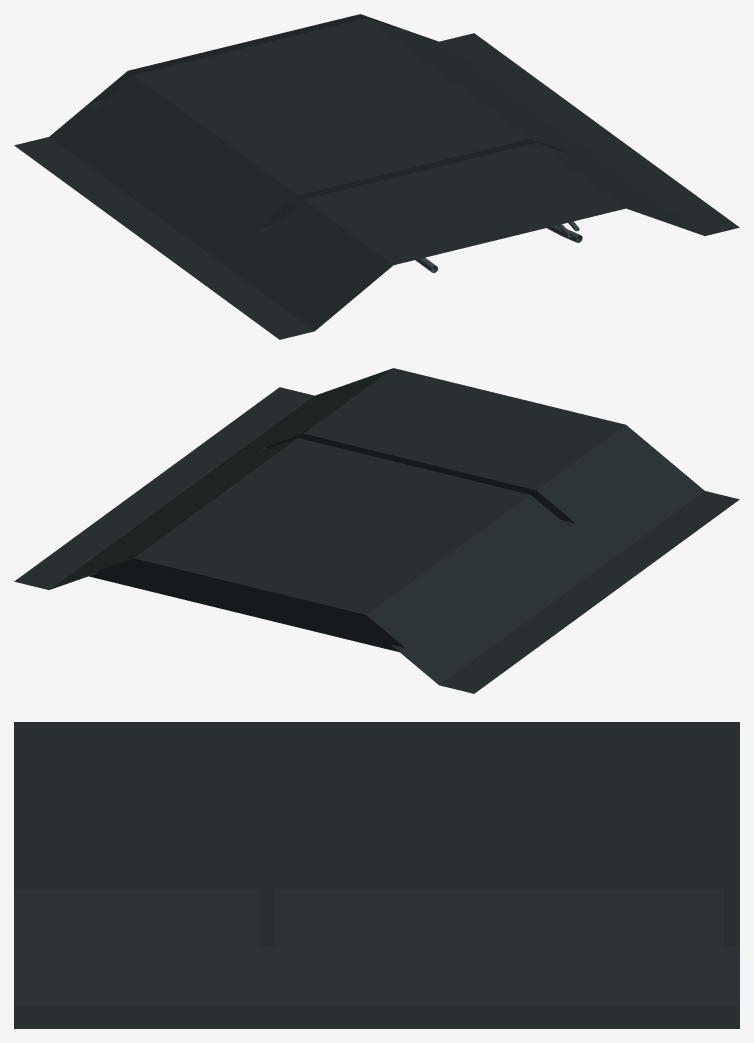
The model's file is ceiling02.fbx.
The picture shows the model from 3 angles, top to bottom: view 1: azimuth 30°, elevation 25°; view 2: azimuth 150°, elevation 25°; view 3: azimuth 270°, elevation 25°; orthographic projection. The views are drawn at different scales.
Visible parts, largest first — view 1: ceiling02; view 2: ceiling02; view 3: ceiling02.
Boxes of the visible parts, box(x1,y1,x2,y2) form: ceiling02: box(14, 14, 739, 339); ceiling02: box(14, 368, 739, 693); ceiling02: box(14, 722, 739, 1028).
Size of the model in its own units: 2 by 2 by 0.1945.
